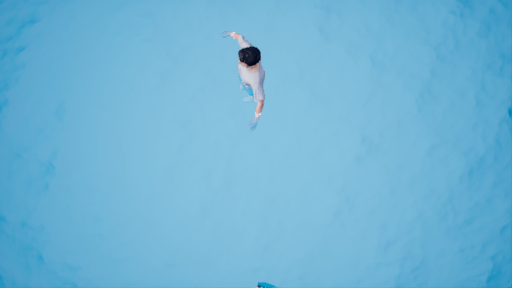person: (224, 30, 275, 135)
